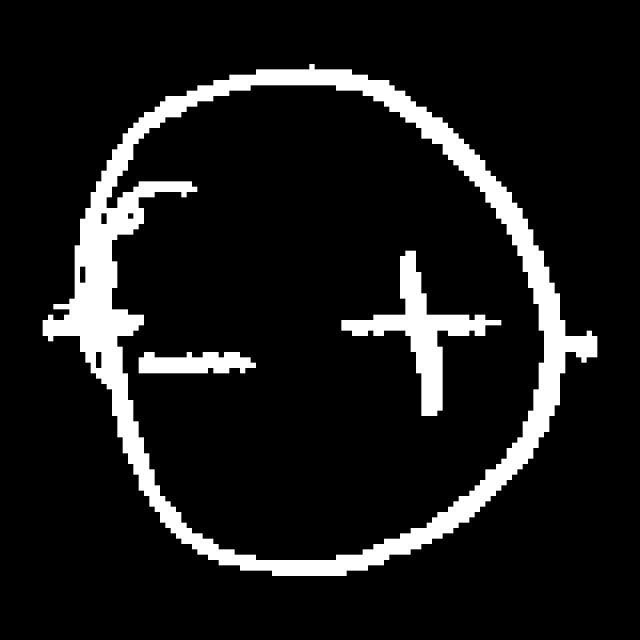voltage_source: (69, 54, 572, 587)
